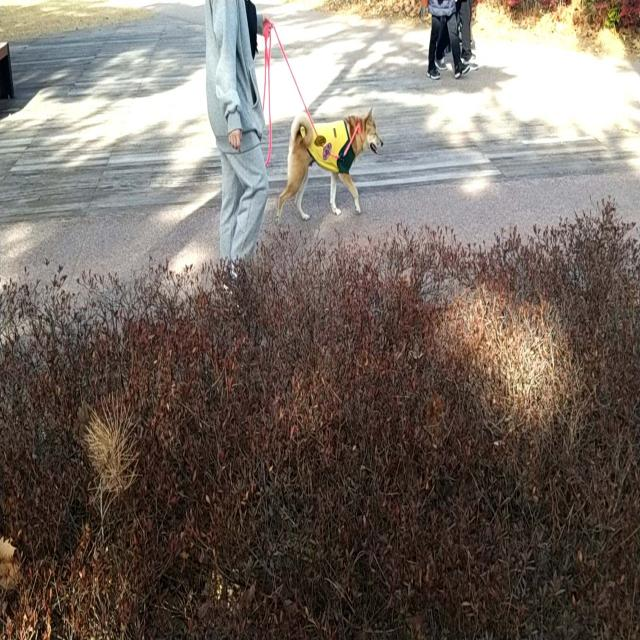Leashed_Dog: (231, 21, 384, 224)
